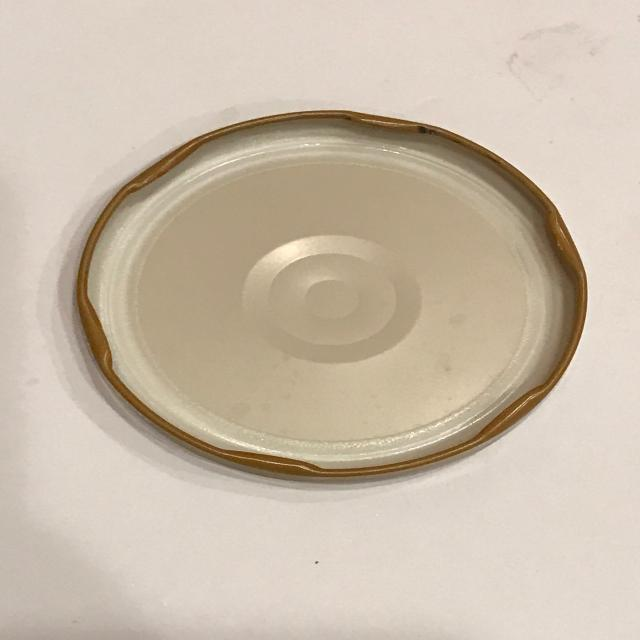metal: (70, 111, 592, 477)
